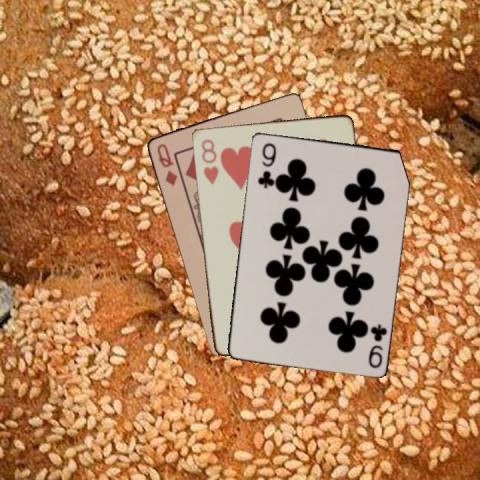8h: (198, 136, 220, 185)
9c: (365, 321, 388, 369), (254, 140, 275, 190)
Qd: (153, 140, 179, 187)
